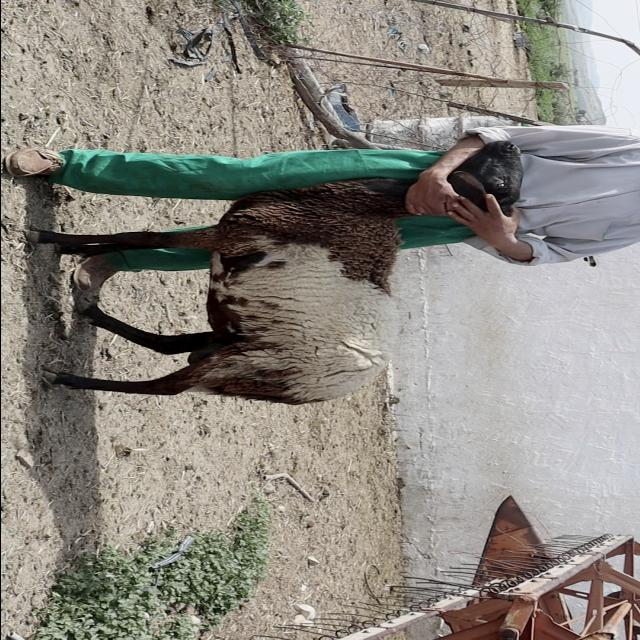Score_2: (25, 177, 411, 405)
